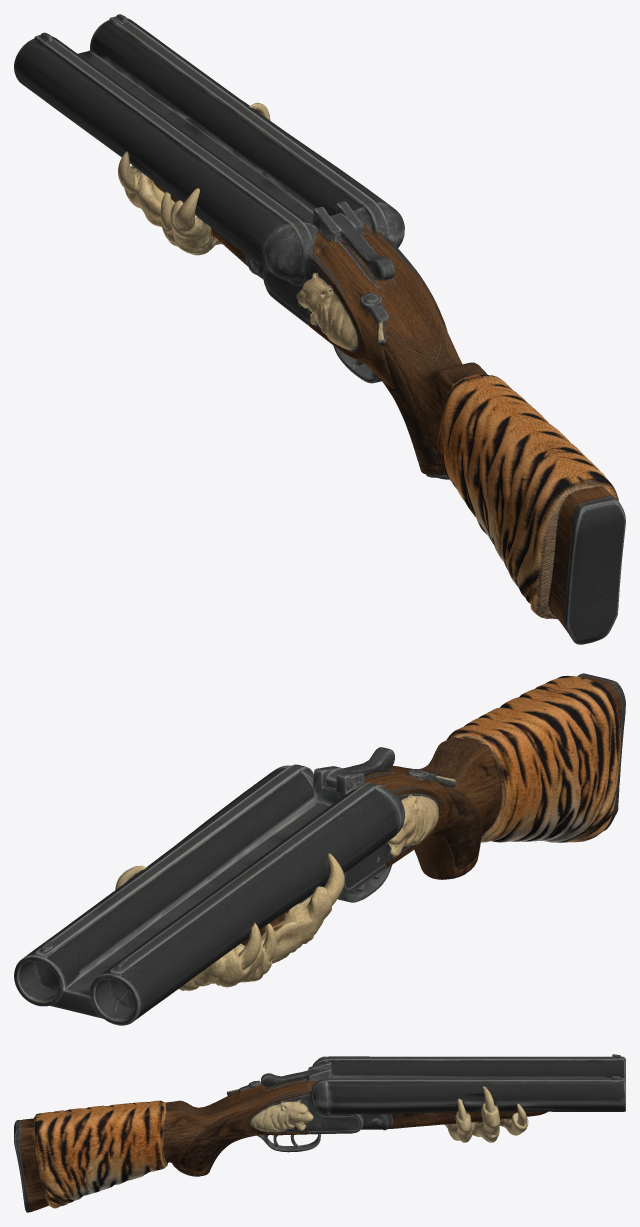
Rendered from sawed_kaplan.glb.
The picture shows the model from 3 angles, top to bottom: view 1: azimuth 30°, elevation 25°; view 2: azimuth 150°, elevation 25°; view 3: azimuth 270°, elevation 25°; orthographic projection. The views are drawn at different scales.
Parts seen in each view (by area): view 1: govde; view 2: govde; view 3: govde.
Boxes of the visible parts, x1,y1,x2,y2 form: govde: (14,14,625,644); govde: (14,673,625,1025); govde: (14,1054,625,1212).
Size of the model in its own units: 0.0857 by 0.126 by 0.48.
1 material, 1 textured.
